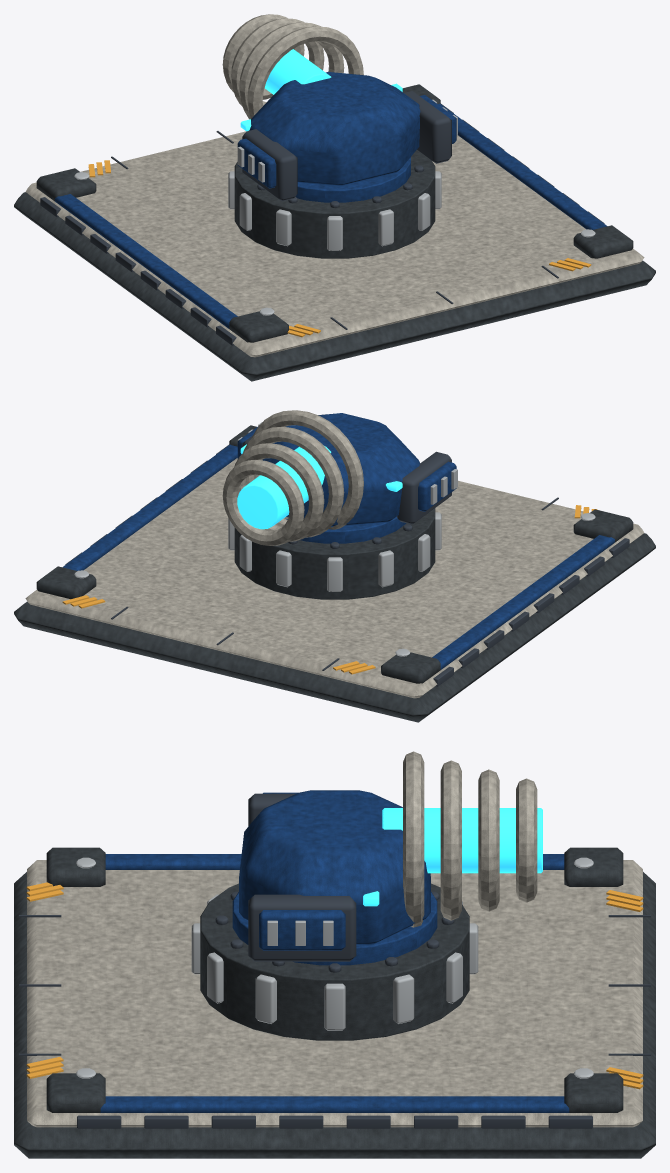
The model's file is solis_tour_sonique.gltf.
The picture shows the model from 3 angles, top to bottom: view 1: azimuth 30°, elevation 25°; view 2: azimuth 150°, elevation 25°; view 3: azimuth 270°, elevation 25°; orthographic projection. The views are drawn at different scales.
Visible parts, largest first — view 1: Building.014_Geometry, TurretYaw.003_Geometry, GunPitch.003_Geometry; view 2: Building.014_Geometry, GunPitch.003_Geometry, TurretYaw.003_Geometry; view 3: Building.014_Geometry, TurretYaw.003_Geometry, GunPitch.003_Geometry.
Boxes of the visible parts, <box> form: Building.014_Geometry: <box>14,84,655,381</box>; TurretYaw.003_Geometry: <box>237,72,457,201</box>; GunPitch.003_Geometry: <box>222,14,363,119</box>; Building.014_Geometry: <box>14,425,655,722</box>; GunPitch.003_Geometry: <box>222,410,363,545</box>; TurretYaw.003_Geometry: <box>237,413,457,527</box>; Building.014_Geometry: <box>14,847,655,1158</box>; TurretYaw.003_Geometry: <box>239,790,430,961</box>; GunPitch.003_Geometry: <box>382,751,542,927</box>.
Bounding box in the file's own units: 3.92 × 1.81 × 3.92.
7 materials, 3 textured.
